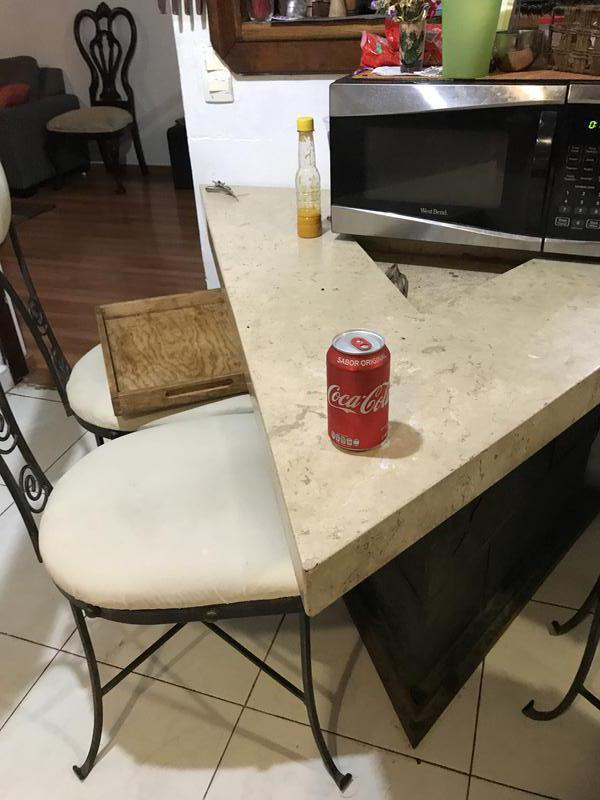coca_cola: (324, 330, 394, 453)
